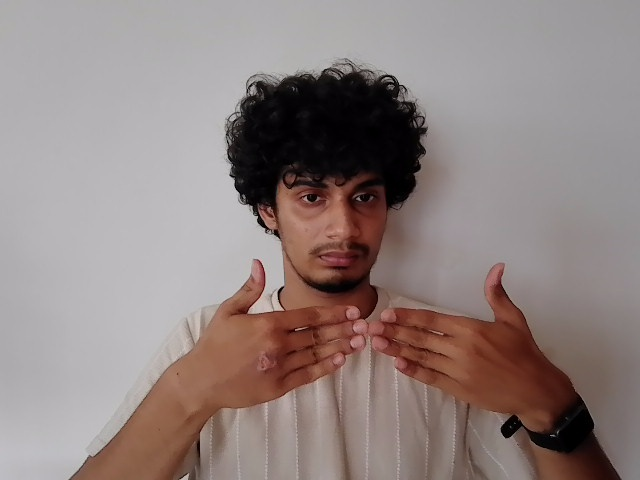family: (176, 260, 553, 417)
